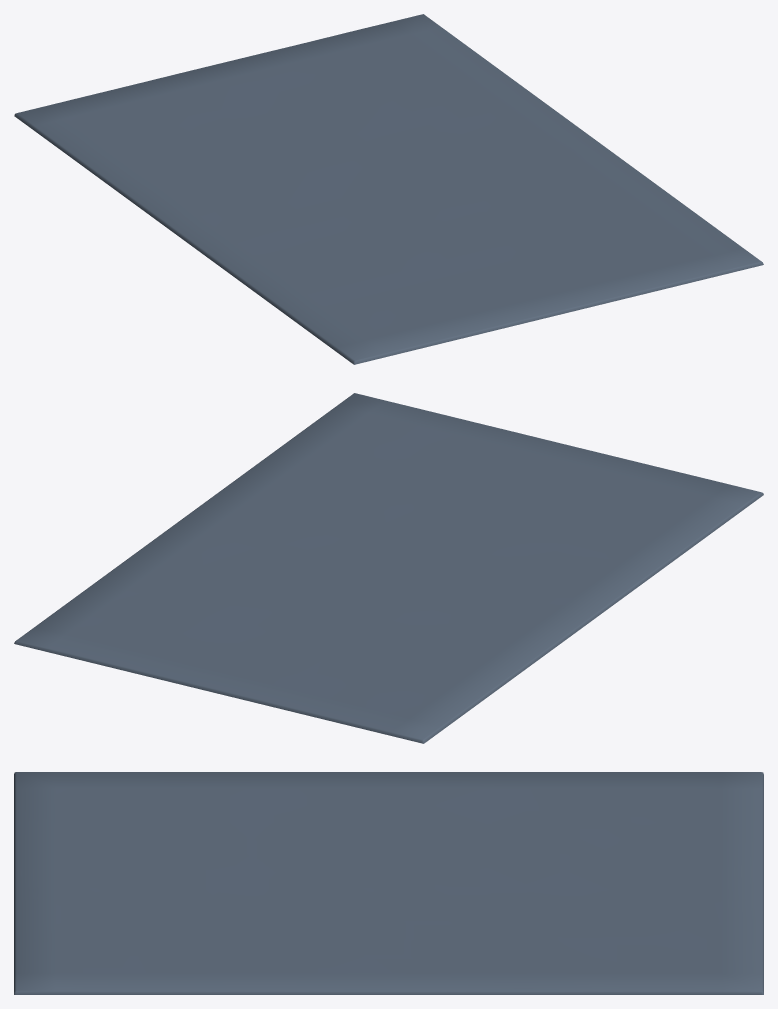
Rendered from rug_blue.glb.
The picture shows the model from 3 angles, top to bottom: view 1: azimuth 30°, elevation 25°; view 2: azimuth 150°, elevation 25°; view 3: azimuth 270°, elevation 25°; orthographic projection. The views are drawn at different scales.
Parts seen in each view (by area): view 1: rug_soft; view 2: rug_soft; view 3: rug_soft.
Part boxes in pixels (x1=…): rug_soft: x1=14, y1=14, x2=763, y2=364; rug_soft: x1=14, y1=393, x2=763, y2=743; rug_soft: x1=14, y1=772, x2=763, y2=994.
Bounding box in the file's own units: 1.6 × 0.0126 × 2.3.
